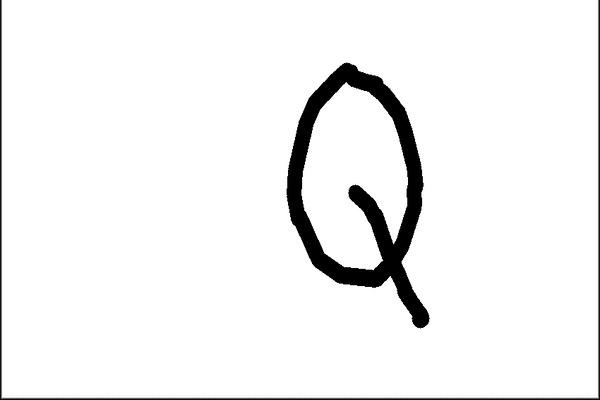Q: (268, 48, 442, 346)
